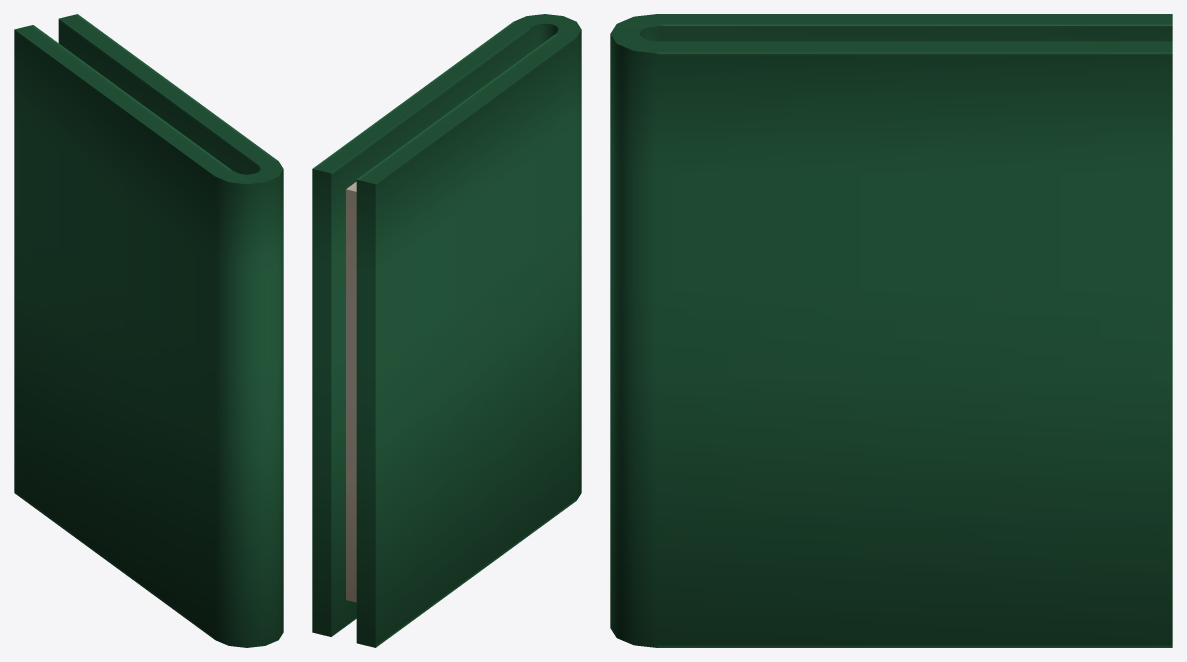
File: BookGreen.fbx
3 views of the same model, side by side, from view 1: azimuth 30°, elevation 25°; view 2: azimuth 150°, elevation 25°; view 3: azimuth 270°, elevation 25° (orthographic). The views are drawn at different scales.
Parts seen in each view (by area): view 1: BookGreen; view 2: BookGreen; view 3: BookGreen.
Part boxes in pixels (left/top/right/bottom): BookGreen: left=14, top=14, right=283, bottom=647; BookGreen: left=312, top=14, right=581, bottom=647; BookGreen: left=610, top=14, right=1172, bottom=647.
Size of the model in its own units: 10 by 70 by 60.
